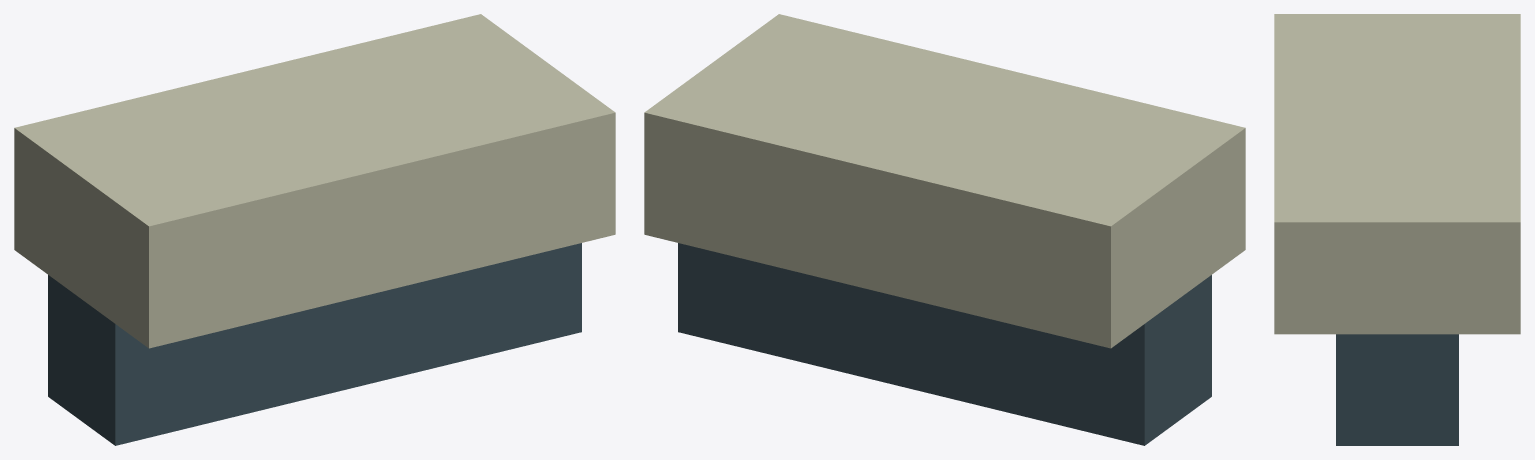
Rendered from sb03.coping.palette.glb.
3 views of the same model, side by side, from view 1: azimuth 30°, elevation 25°; view 2: azimuth 150°, elevation 25°; view 3: azimuth 270°, elevation 25° (orthographic). The views are drawn at different scales.
Visible parts, largest first — view 1: VW.cap.001, VW.neck.001; view 2: VW.cap.001, VW.neck.001; view 3: VW.cap.001, VW.neck.001.
Part boxes in pixels (x1=…): VW.cap.001: x1=14, y1=14, x2=615, y2=348; VW.neck.001: x1=48, y1=243, x2=581, y2=445; VW.cap.001: x1=644, y1=14, x2=1245, y2=348; VW.neck.001: x1=678, y1=243, x2=1211, y2=445; VW.cap.001: x1=1274, y1=14, x2=1520, y2=334; VW.neck.001: x1=1336, y1=334, x2=1458, y2=445.
Bounding box in the file's own units: 0.5 × 0.25 × 0.25.
1 material, 1 textured.
